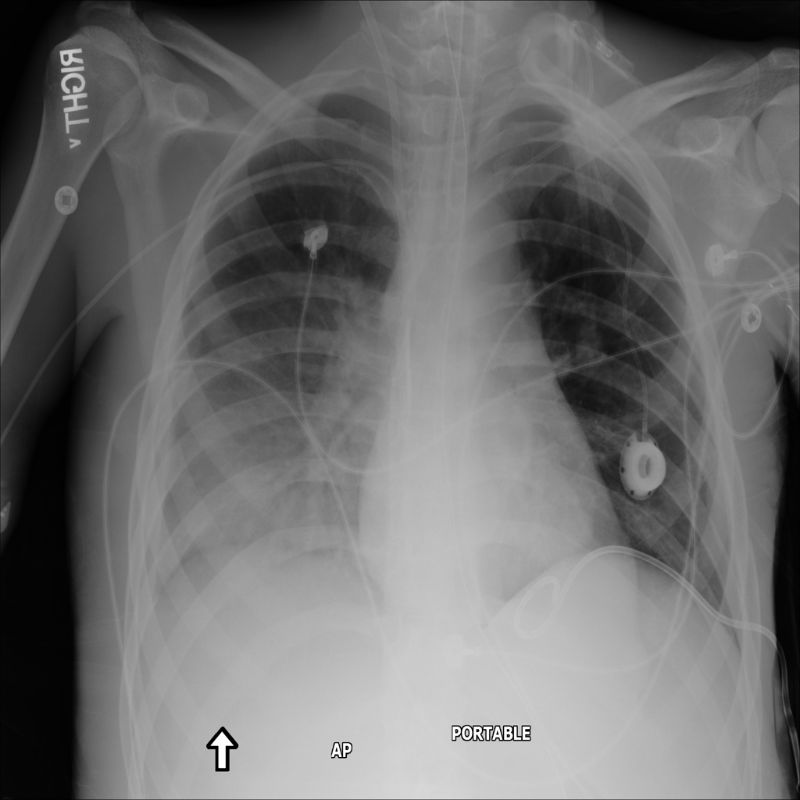PLEURAL EFFUSION: (133, 444, 287, 701)
